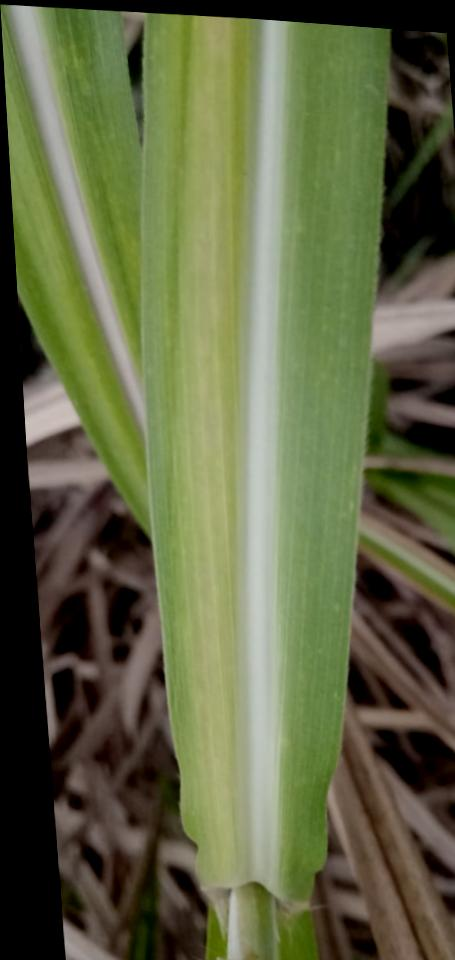Yellow: (192, 16, 242, 887)
